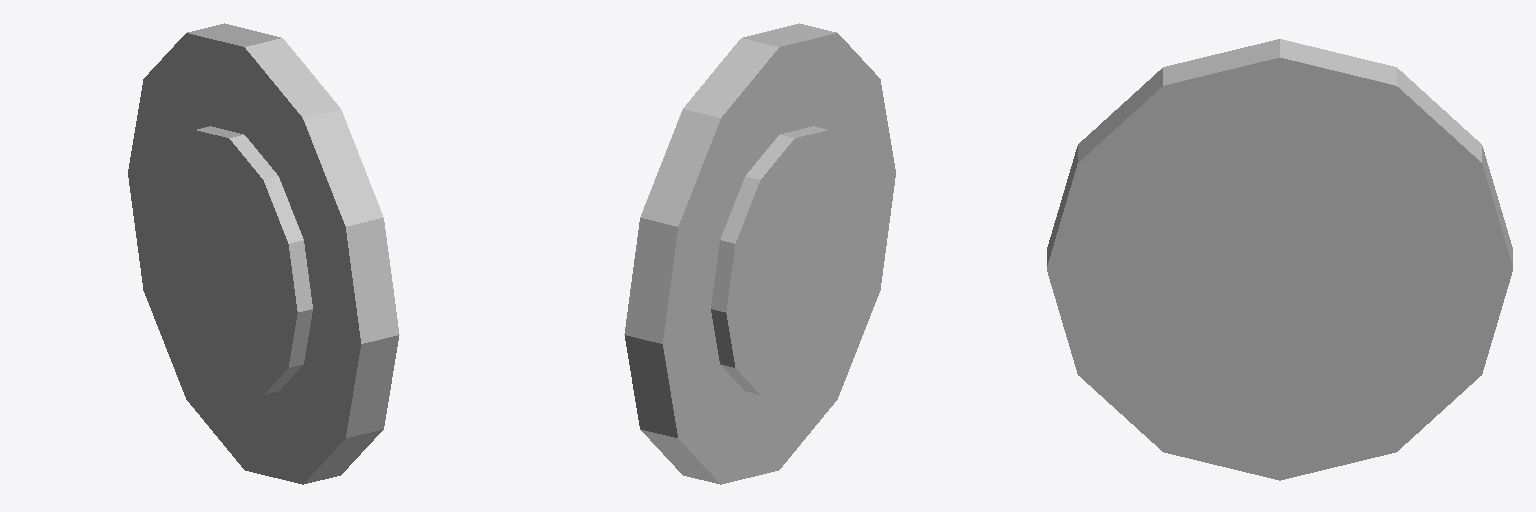
The model's file is Panzer VI Tank Wheel RealFront.obj.
The picture shows the model from 3 angles: view 1: azimuth 30°, elevation 25°; view 2: azimuth 150°, elevation 25°; view 3: azimuth 270°, elevation 25°; orthographic projection.
Visible parts, largest first — view 1: Cylinder.011_Cylinder.032; view 2: Cylinder.011_Cylinder.032; view 3: Cylinder.011_Cylinder.032.
Boxes of the visible parts, x1,y1,x2,y2 form: Cylinder.011_Cylinder.032: [128, 23, 399, 484]; Cylinder.011_Cylinder.032: [624, 23, 895, 484]; Cylinder.011_Cylinder.032: [1047, 39, 1512, 480].
Bounding box in the file's own units: 0.1054 × 0.7949 × 0.7949.